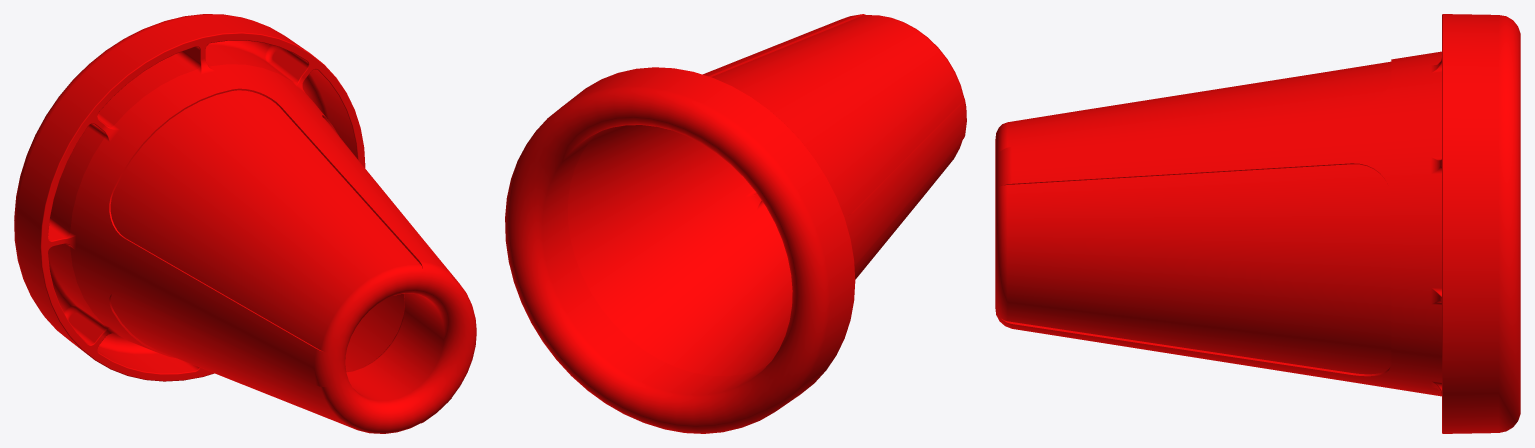
Rendered from red-cone.glb.
The picture shows the model from 3 angles, left to right: view 1: azimuth 30°, elevation 25°; view 2: azimuth 150°, elevation 25°; view 3: azimuth 270°, elevation 25°; orthographic projection. The views are drawn at different scales.
Parts seen in each view (by area): view 1: Solid1; view 2: Solid1; view 3: Solid1.
Part boxes in pixels (x1,y1,x2,y2): Solid1: (14, 14, 476, 433); Solid1: (505, 14, 966, 433); Solid1: (995, 14, 1520, 433).
Bounding box in the file's own units: 0.1016 × 0.1016 × 0.1269.
